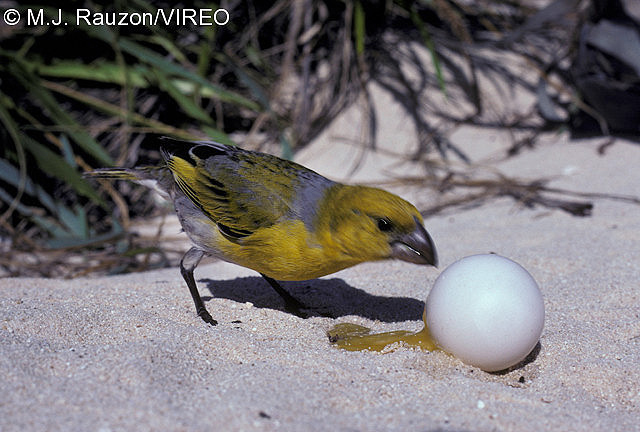Egg: (421, 249, 551, 379)
